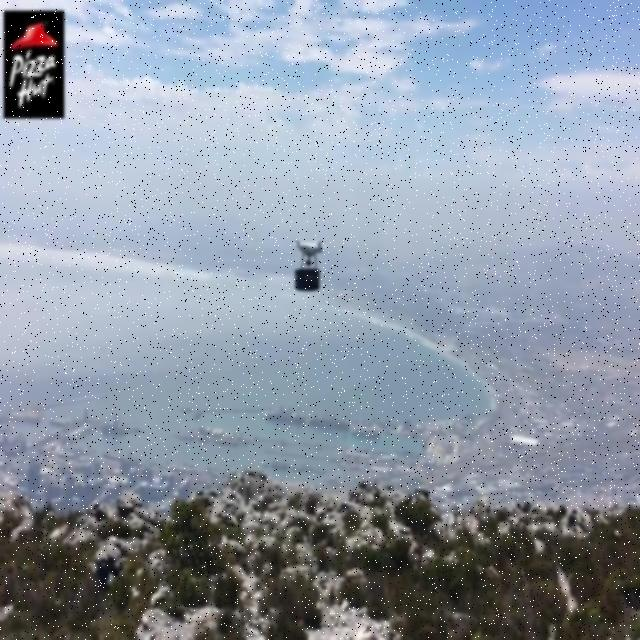UAV: (292, 239, 328, 269)
